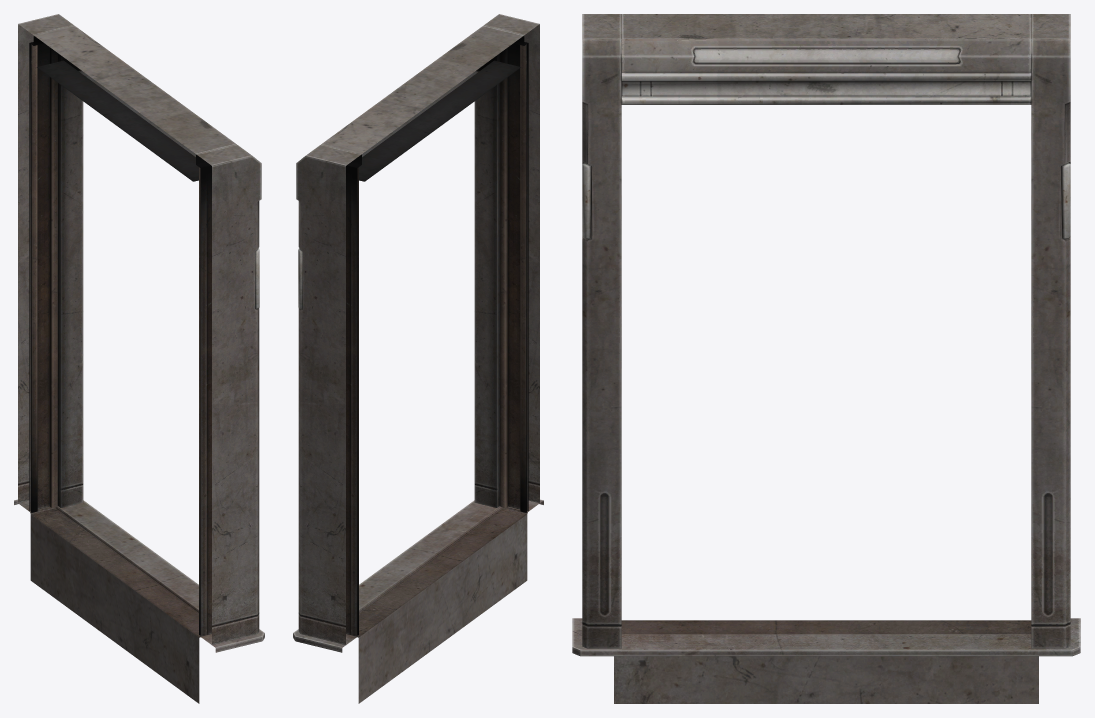
Rendered from 02_06_elevator_frame.dae.
3 views of the same model, side by side, from view 1: azimuth 30°, elevation 25°; view 2: azimuth 150°, elevation 25°; view 3: azimuth 270°, elevation 25° (orthographic). The views are drawn at different scales.
Visible parts, largest first — view 1: frame; view 2: frame; view 3: frame.
Boxes of the visible parts, x1,y1,x2,y2 form: frame: (14,14,264,703); frame: (293,14,543,703); frame: (572,14,1080,703).
Size of the model in its own units: 0.3612 by 3.61 by 2.41.
